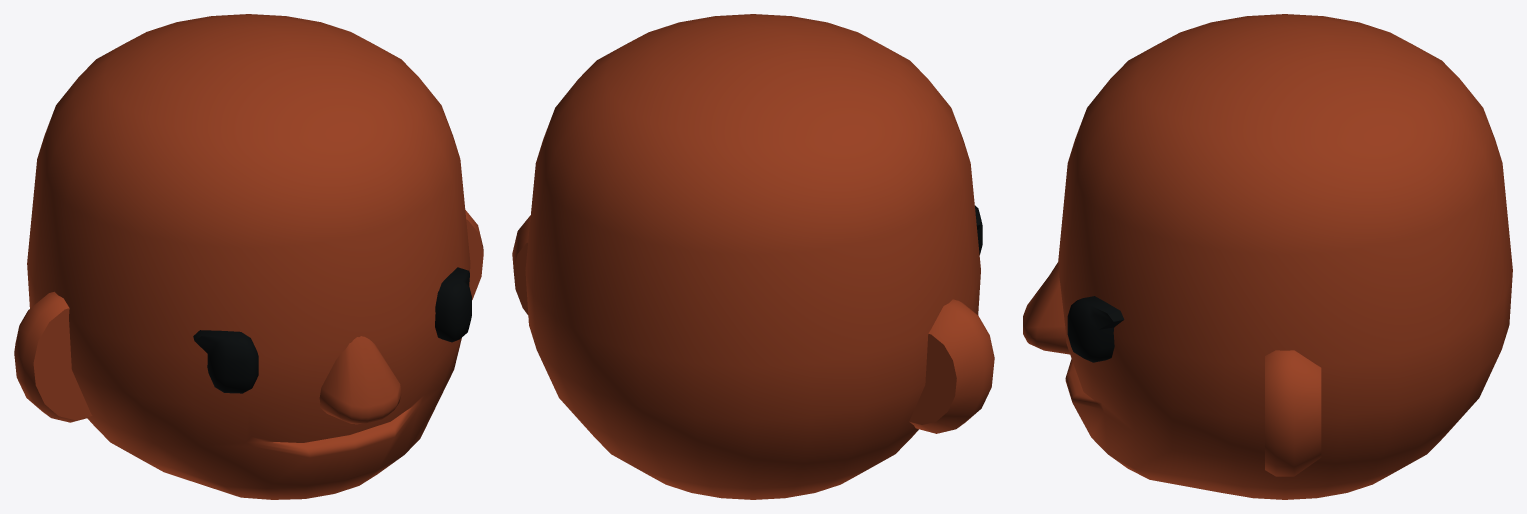
Rendered from rogueHeadB.obj.
3 renders of one model, left to right at view 1: azimuth 30°, elevation 25°; view 2: azimuth 150°, elevation 25°; view 3: azimuth 270°, elevation 25°, orthographic. The views are drawn at different scales.
Parts seen in each view (by area): view 1: rogueHeadB_Cube.3524; view 2: rogueHeadB_Cube.3524; view 3: rogueHeadB_Cube.3524.
Boxes of the visible parts, x1=… form: rogueHeadB_Cube.3524: x1=14, y1=14, x2=483, y2=499; rogueHeadB_Cube.3524: x1=512, y1=14, x2=994, y2=499; rogueHeadB_Cube.3524: x1=1023, y1=14, x2=1512, y2=499.
Bounding box in the file's own units: 1.18 × 0.9703 × 1.05.
